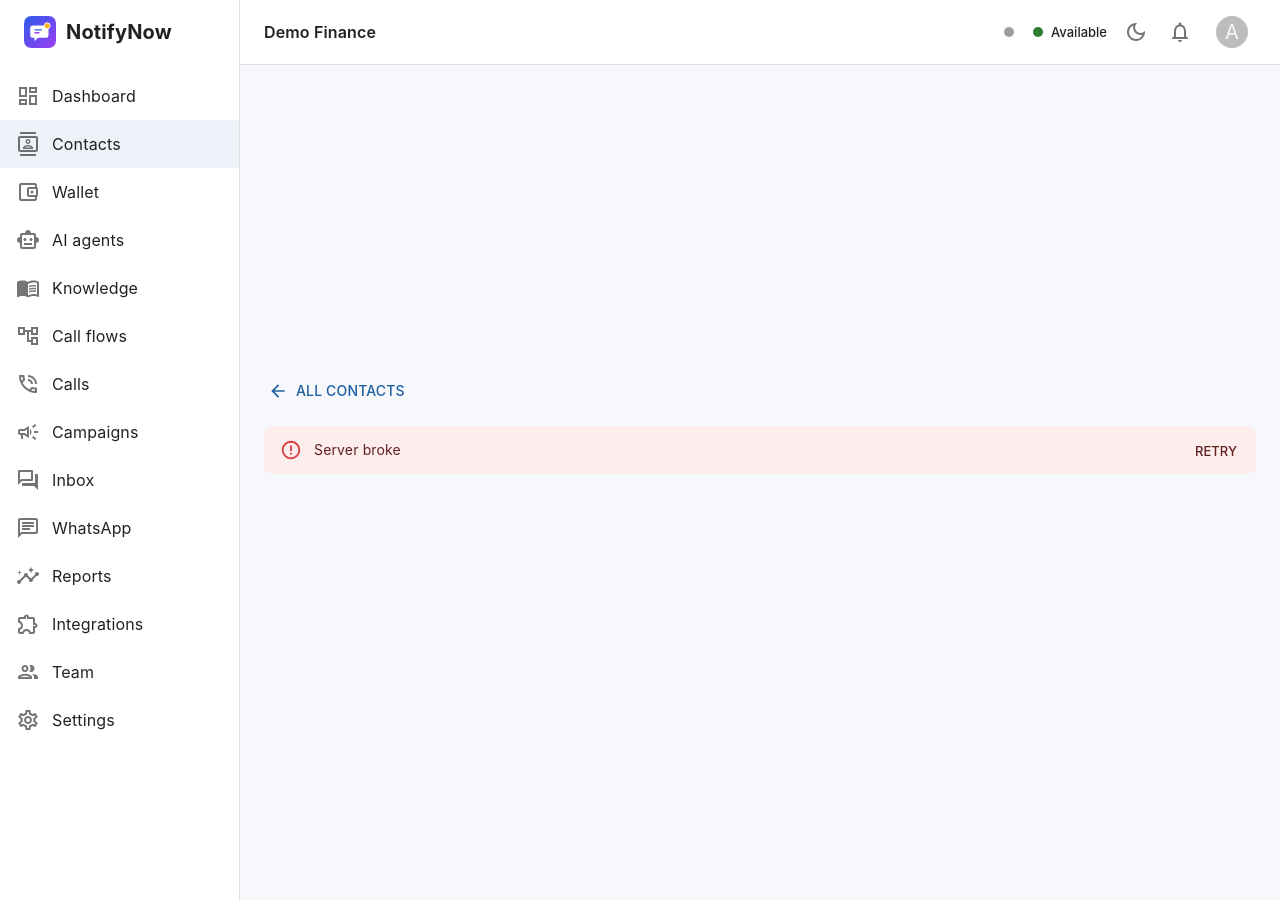
contact detail › shows not found and other errors
The image size is (1280, 900).
(page scrolled)
Check: the text "Server broke" is shown, box [314,440,401,458]
Click the button "Retry". click: (1216, 451)
box: [1184,436,1248,466]
(page scrolled)
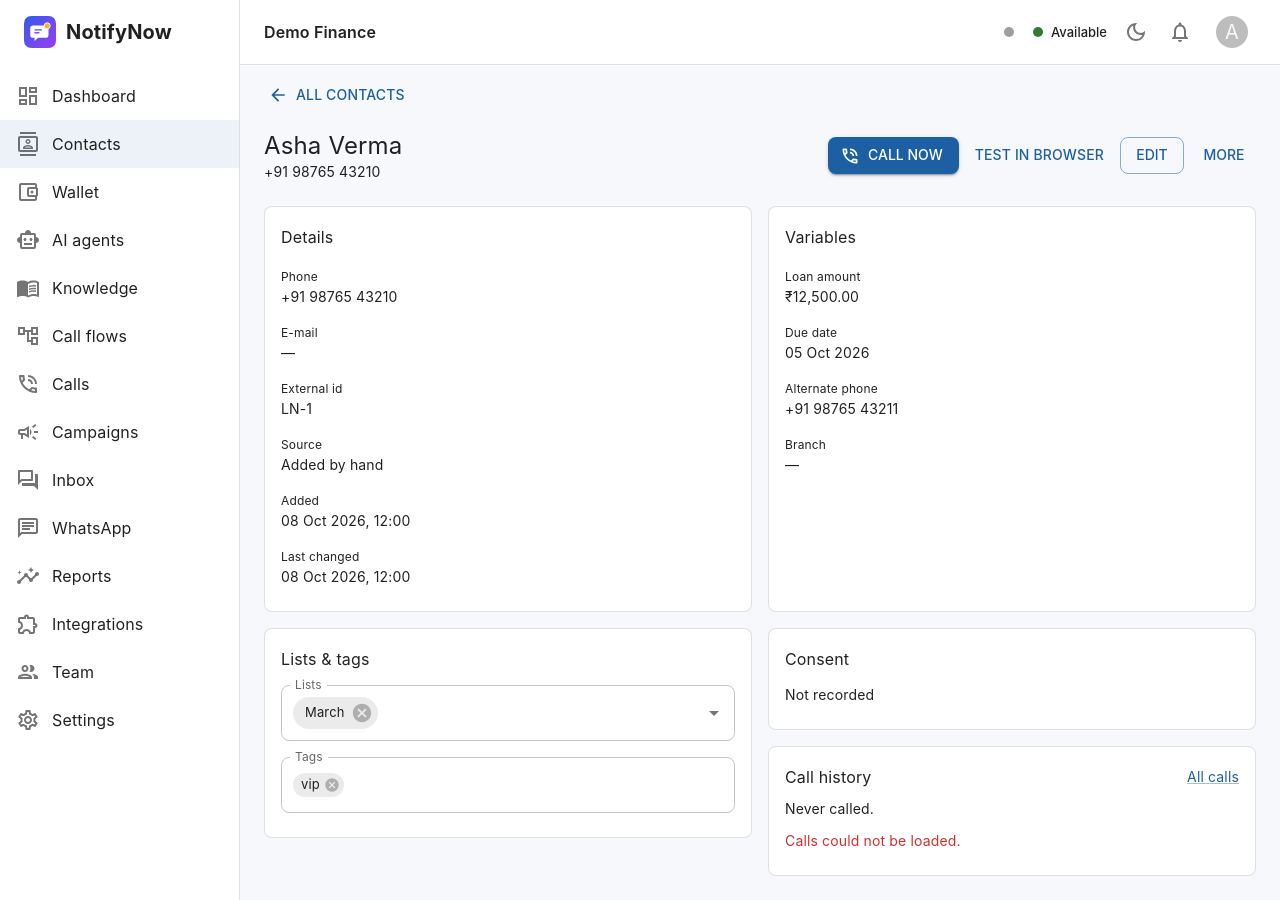
Check: the text "Added by hand" is shown, box [281,456,384,473]
Check: the text "Not recorded" is shown, box [785,686,874,703]
